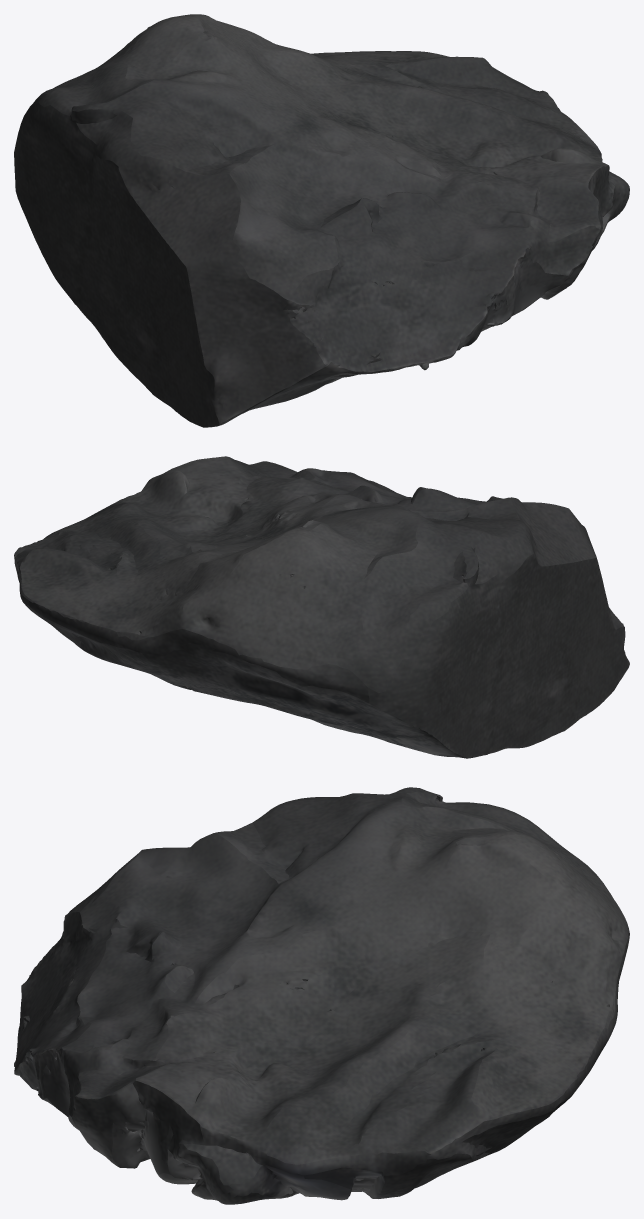
3 renders of one model, top to bottom at view 1: azimuth 30°, elevation 25°; view 2: azimuth 150°, elevation 25°; view 3: azimuth 270°, elevation 25°, orthographic. The views are drawn at different scales.
Parts seen in each view (by area): view 1: world; view 2: world; view 3: world.
Boxes of the visible parts, <box> form: world: <box>14,14,629,427</box>; world: <box>14,456,629,758</box>; world: <box>14,787,629,1204</box>.
Size of the model in its own units: 1.2 by 0.6064 by 1.2.
Materials: 1 (1 with a texture image).
